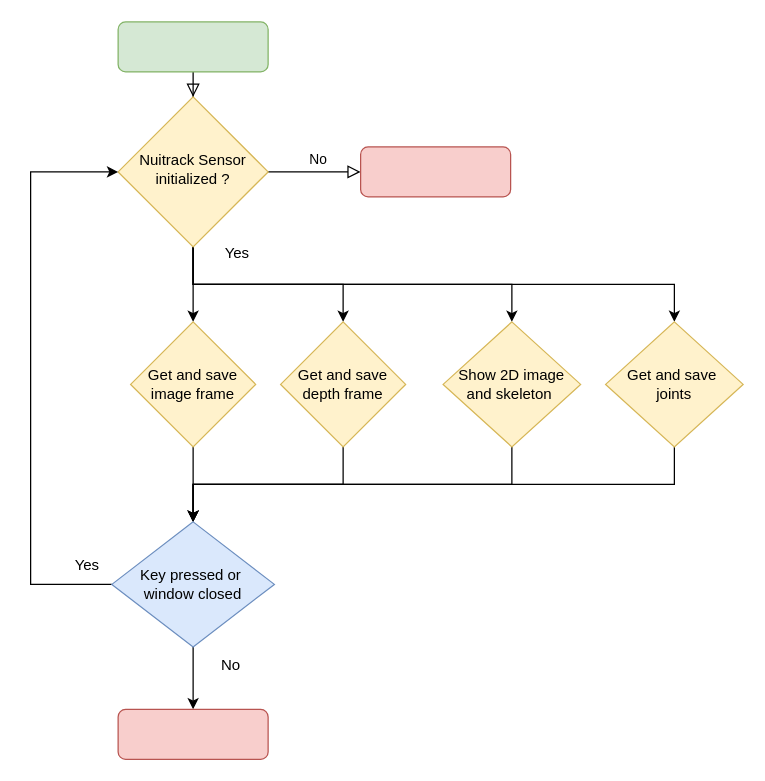
The diagram is 765 pixels wide and 781 high, and some of its shapes have lost their labels. The shapes that lost their labels are listed below. From the top down, each one's box as (x1, y1, x2, y2) in pixels, then its label:
(117, 21, 268, 72): Initialize Nuitrack
(359, 146, 511, 197): Error
(117, 708, 268, 759): End script
